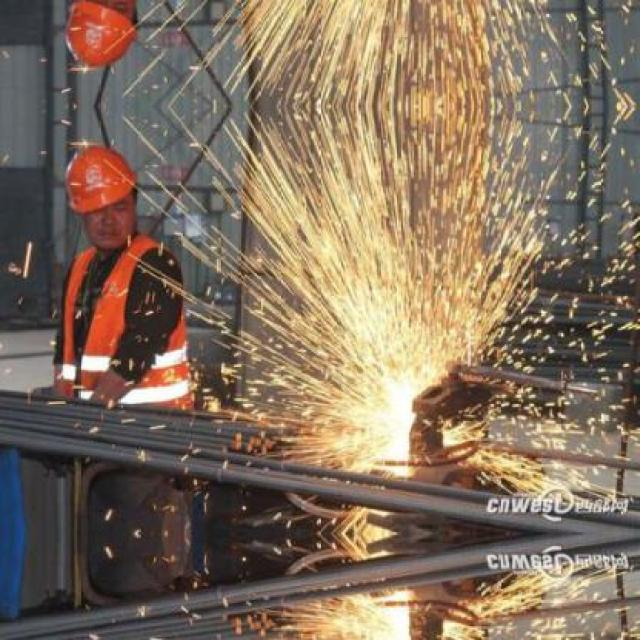helmet: (59, 136, 141, 251), (58, 0, 142, 77)
